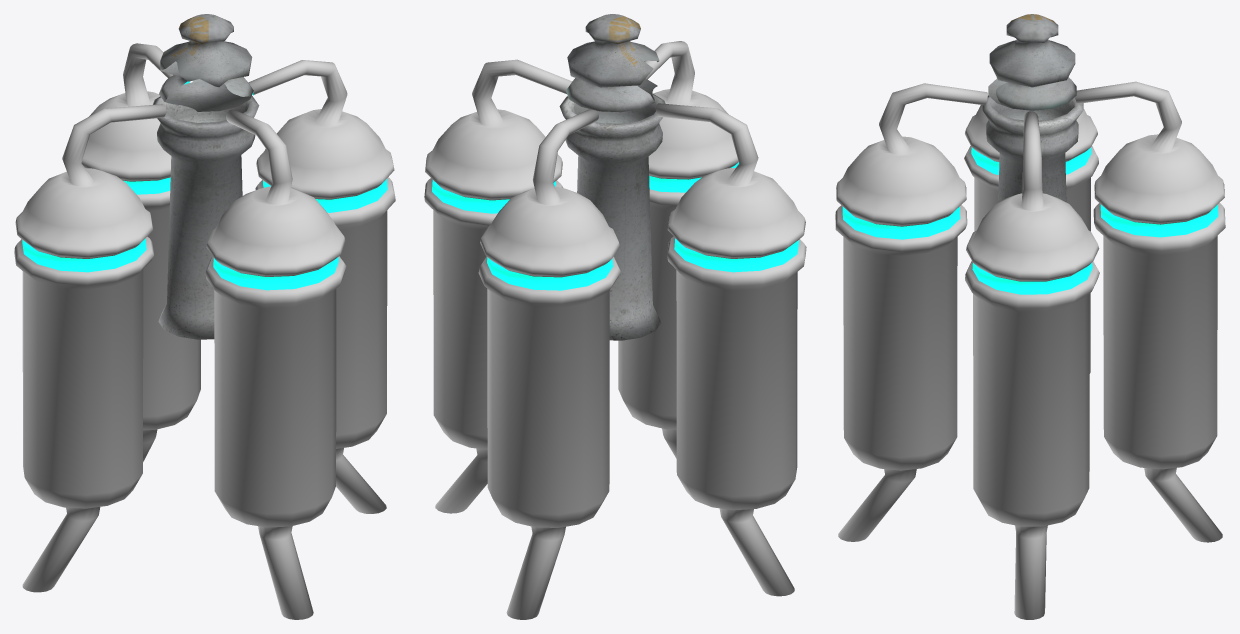
Rendered from economyECOState3.fbx.
3 renders of one model, left to right at view 1: azimuth 30°, elevation 25°; view 2: azimuth 150°, elevation 25°; view 3: azimuth 270°, elevation 25°, orthographic. The views are drawn at different scales.
Visible parts, largest first — view 1: Cylinder; view 2: Cylinder; view 3: Cylinder.
Boxes of the visible parts, box(x1,y1,x2,y2) form: Cylinder: box(14, 14, 395, 619); Cylinder: box(424, 14, 806, 619); Cylinder: box(835, 14, 1225, 619).
Bounding box in the file's own units: 6.3 × 8.75 × 6.
